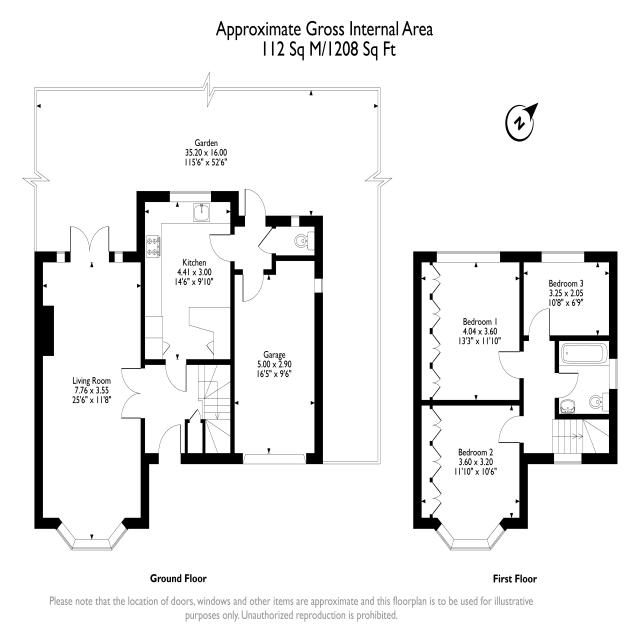DOOR: (157, 423, 183, 465), (244, 187, 267, 228), (527, 306, 551, 342), (497, 350, 525, 380), (497, 414, 525, 444), (242, 269, 265, 305), (208, 233, 235, 263), (164, 358, 187, 393), (554, 372, 580, 401), (256, 227, 277, 255)
DOUBLE DOOR: (121, 366, 146, 420), (69, 225, 110, 253)
ROOM: (34, 225, 150, 552), (135, 190, 240, 393), (412, 399, 529, 552), (413, 251, 524, 406), (519, 251, 618, 341)
WINDOW: (436, 250, 501, 263), (55, 521, 76, 551), (107, 521, 128, 551), (540, 250, 586, 263), (486, 522, 506, 551), (435, 523, 455, 551), (169, 190, 212, 203), (71, 538, 113, 551), (450, 538, 491, 551), (553, 452, 583, 465), (609, 358, 618, 390), (314, 278, 323, 293), (56, 251, 66, 263), (114, 251, 124, 263), (291, 215, 300, 227)
